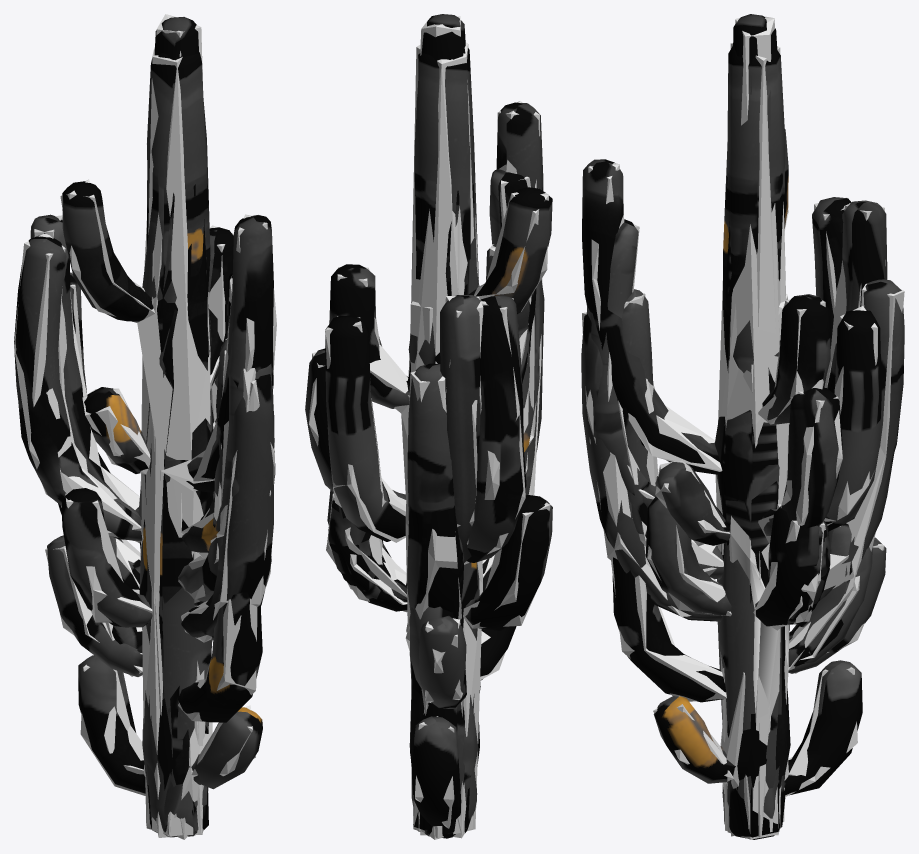
Rendered from ALl_Cactus.fbx.
The picture shows the model from 3 angles, left to right: view 1: azimuth 30°, elevation 25°; view 2: azimuth 150°, elevation 25°; view 3: azimuth 270°, elevation 25°; orthographic projection.
Parts seen in each view (by area): view 1: Cactus_5, Cactus_7, Cactus_8, Cactus_5_cd, Cactus_8_cd, Cactus_1, Cactus_6, Cactus_4, Cactus_7_cd, Cactus_1_cd, Cactus_6_cd, Cactus_3 (+3 smaller); view 2: Cactus_5, Cactus_7, Cactus_8, Cactus_5_cd, Cactus_3, Cactus_6, Cactus_1, Cactus_7_cd, Cactus_8_cd, Cactus_4, Cactus_6_cd, Cactus_3_cd (+2 smaller); view 3: Cactus_5, Cactus_8, Cactus_7, Cactus_7_cd, Cactus_1, Cactus_3, Cactus_5_cd, Cactus_2, Cactus_4, Cactus_6, Cactus_6_cd, Cactus_8_cd (+4 smaller).
Boxes of the visible parts, <box> form: Cactus_5: <box>30,52,273,817</box>; Cactus_7: <box>58,17,274,759</box>; Cactus_8: <box>14,235,275,836</box>; Cactus_5_cd: <box>34,47,276,839</box>; Cactus_8_cd: <box>14,234,270,837</box>; Cactus_1: <box>78,655,262,793</box>; Cactus_6: <box>47,387,214,836</box>; Cactus_4: <box>100,536,262,837</box>; Cactus_7_cd: <box>61,14,274,834</box>; Cactus_1_cd: <box>80,655,255,835</box>; Cactus_6_cd: <box>45,388,209,836</box>; Cactus_3: <box>150,339,227,831</box>; Cactus_5: <box>329,46,552,804</box>; Cactus_7: <box>327,14,552,630</box>; Cactus_8: <box>305,169,541,837</box>; Cactus_5_cd: <box>337,42,548,836</box>; Cactus_3: <box>325,244,529,833</box>; Cactus_6: <box>328,498,478,837</box>; Cactus_1: <box>410,681,480,826</box>; Cactus_7_cd: <box>379,16,550,838</box>; Cactus_8_cd: <box>309,176,542,838</box>; Cactus_4: <box>329,451,528,838</box>; Cactus_6_cd: <box>326,499,467,835</box>; Cactus_3_cd: <box>325,244,528,838</box>; Cactus_5: <box>582,45,887,795</box>; Cactus_8: <box>586,197,851,828</box>; Cactus_7: <box>581,14,904,626</box>; Cactus_7_cd: <box>582,16,904,831</box>; Cactus_1: <box>653,660,862,795</box>; Cactus_3: <box>621,289,881,823</box>; Cactus_5_cd: <box>588,43,885,832</box>; Cactus_2: <box>645,496,851,839</box>; Cactus_4: <box>612,496,872,825</box>; Cactus_6: <box>655,462,886,823</box>; Cactus_6_cd: <box>655,460,885,835</box>; Cactus_8_cd: <box>586,197,850,837</box>.
Bounding box in the file's own units: 695 × 2405 × 866.
